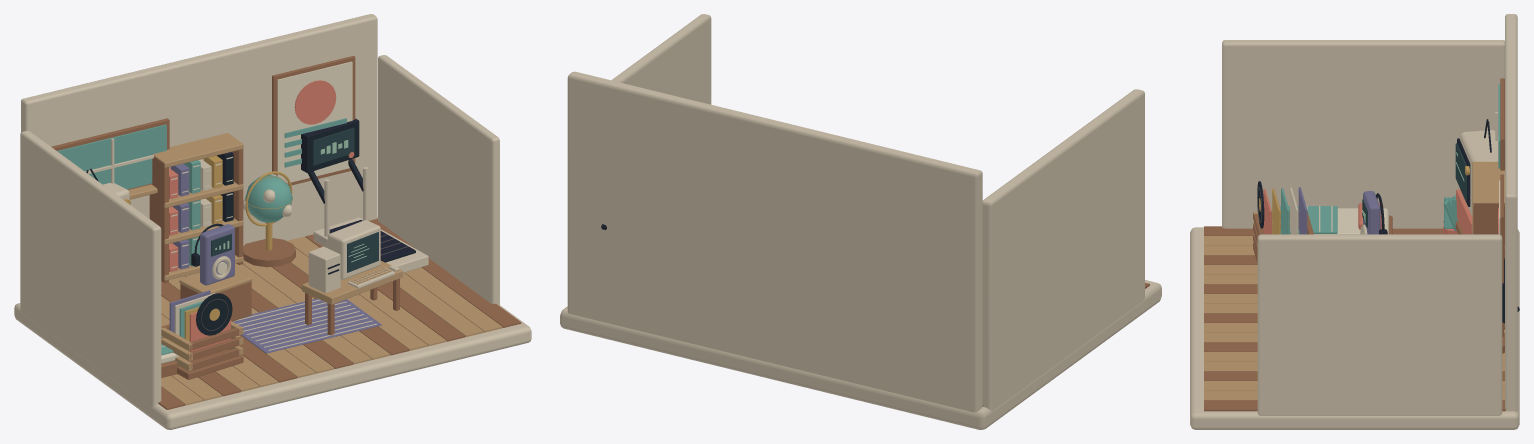
Rendered from diorama.6f9fb15b1cd2.glb.
3 renders of one model, left to right at view 1: azimuth 30°, elevation 25°; view 2: azimuth 150°, elevation 25°; view 3: azimuth 270°, elevation 25°, orthographic. The views are drawn at different scales.
Visible parts, largest first — view 1: room-shell, body__read, body__play, body__move, body__collect, body__listen, motion__travel, body__travel, motion__collect; view 2: room-shell; view 3: room-shell, body__watch, body__read, body__collect, body__listen.
Part boxes in pixels (<box>): room-shell: <box>14,14,531,429</box>; body__read: <box>149,133,243,282</box>; body__play: <box>302,220,402,335</box>; body__move: <box>301,118,428,272</box>; body__collect: <box>161,290,243,379</box>; body__listen: <box>179,223,252,321</box>; motion__travel: <box>243,174,292,222</box>; body__travel: <box>243,171,295,267</box>; motion__collect: <box>196,293,232,335</box>; room-shell: <box>560,14,1161,429</box>; room-shell: <box>1190,14,1519,429</box>; body__watch: <box>1455,119,1498,234</box>; body__read: <box>1472,161,1504,329</box>; body__collect: <box>1253,187,1313,263</box>; body__listen: <box>1360,191,1387,234</box>.
Bounding box in the file's own units: 9.8 × 5.62 × 7.21.
